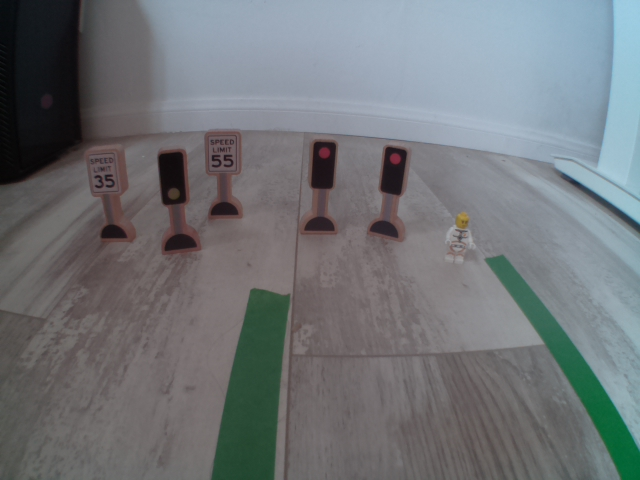Green Traffic Light: (156, 153, 189, 206)
Red Traffic Light: (382, 146, 406, 196), (312, 140, 335, 189)
Speed Limit 35: (86, 149, 123, 195)
Speed Limit 55: (207, 133, 239, 173)
person: (445, 210, 477, 264)
